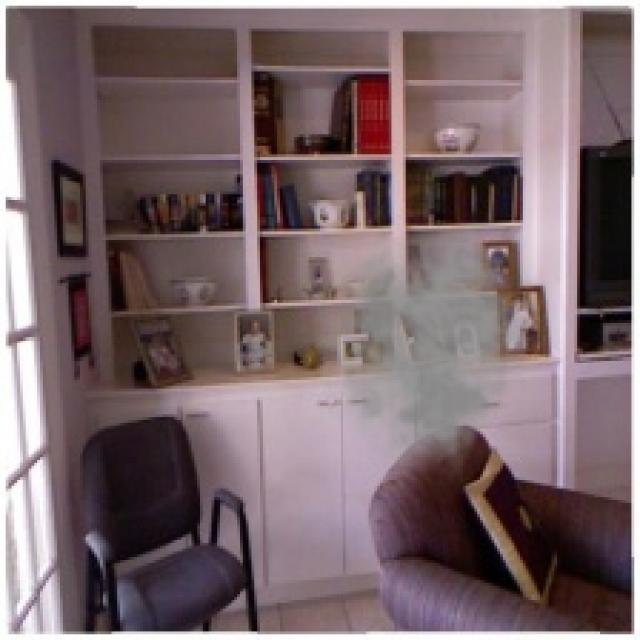Smoke: (312, 220, 528, 486)
